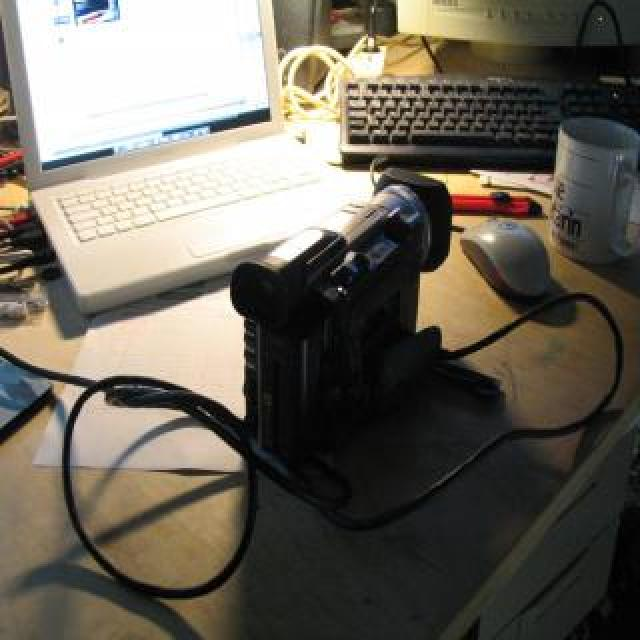laptop_computer: (13, 0, 315, 320)
mouse: (465, 212, 558, 315)
